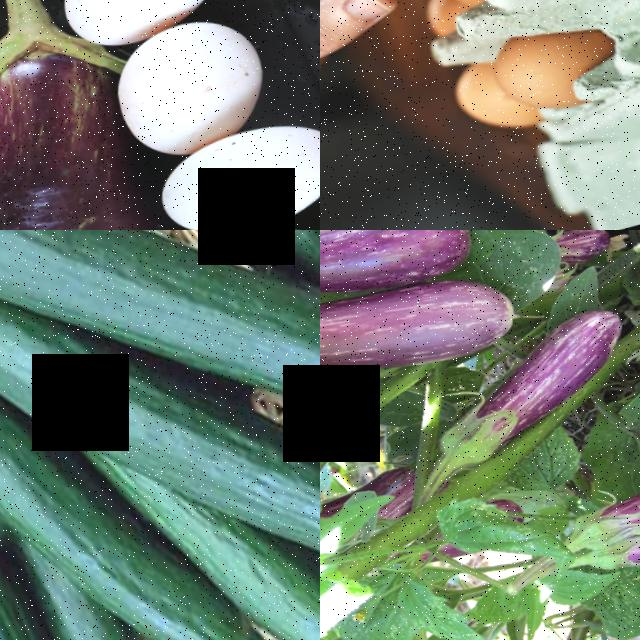cucumber: (8, 418, 255, 640), (137, 230, 320, 497), (180, 361, 320, 640), (0, 230, 165, 360), (0, 500, 79, 640)
egg_: (469, 5, 601, 121)
eggplant: (0, 25, 232, 230), (397, 282, 640, 476), (320, 230, 526, 446), (320, 230, 488, 356), (548, 421, 640, 563), (573, 479, 640, 589)
